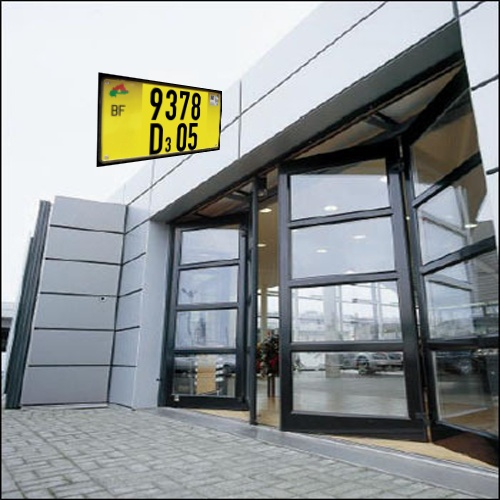plate: (87, 58, 242, 182)
